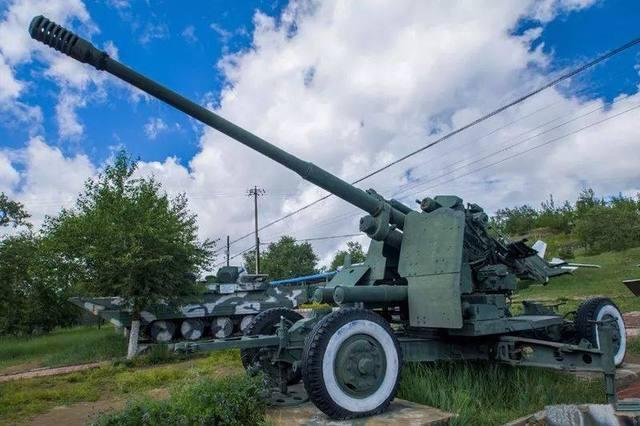MIL_SPG: (30, 18, 626, 419), (140, 266, 336, 342), (70, 296, 130, 328)
